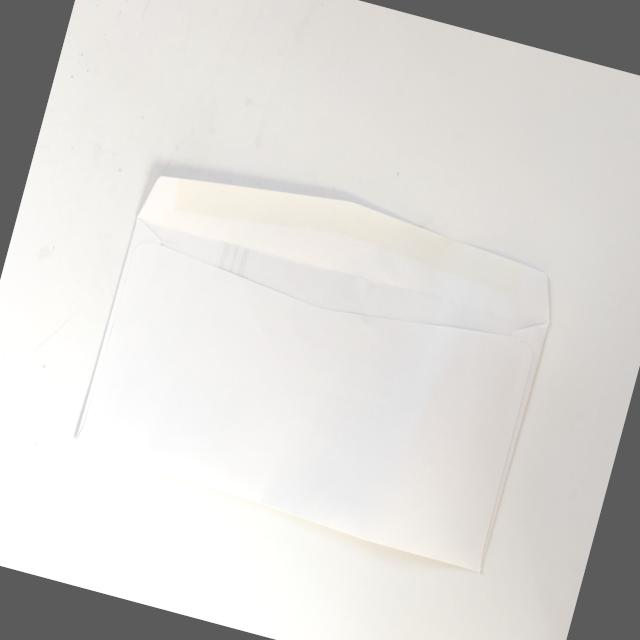Paper: (32, 113, 576, 600)
